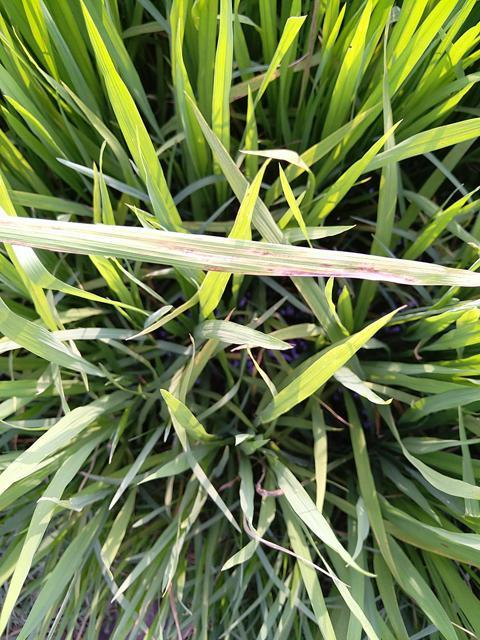Leaf Streak: (0, 213, 479, 294)
